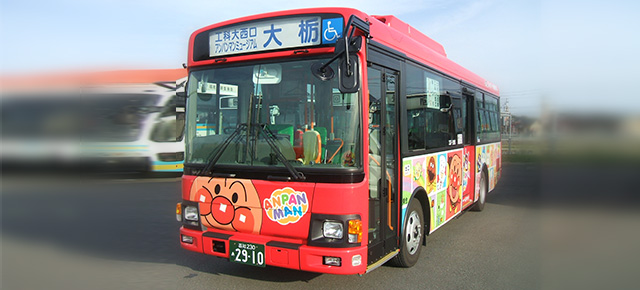destination: (208, 13, 321, 57)
